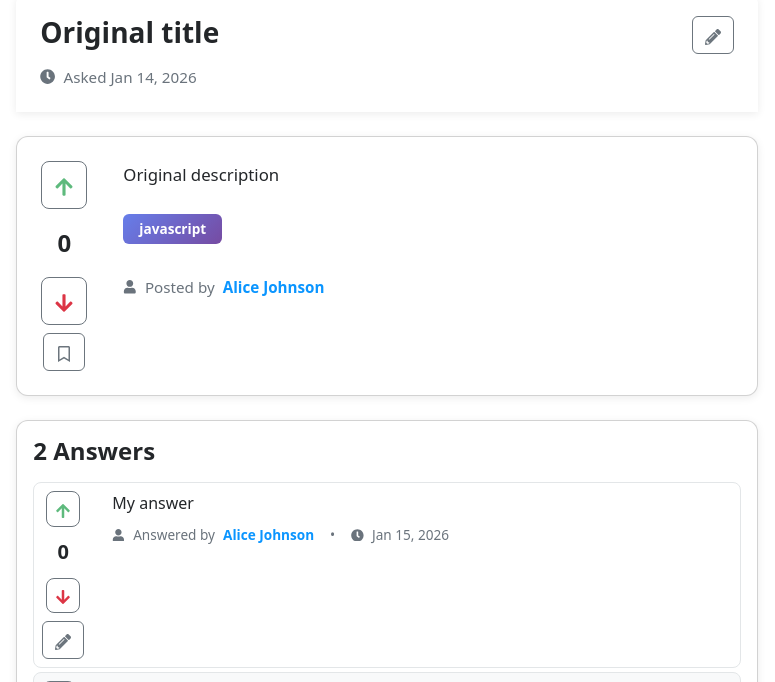
Test: Edit Posts Integration Tests (Redux + rendered QuestionDetail) › blocks submission and issues no request when the question title is emptied
The image size is (775, 682).
Expected: the heading "Original title" is shown, [40,16,219,50]
Click the button named "edit" in the row of "Original title": (713, 35) [692,16,734,54]
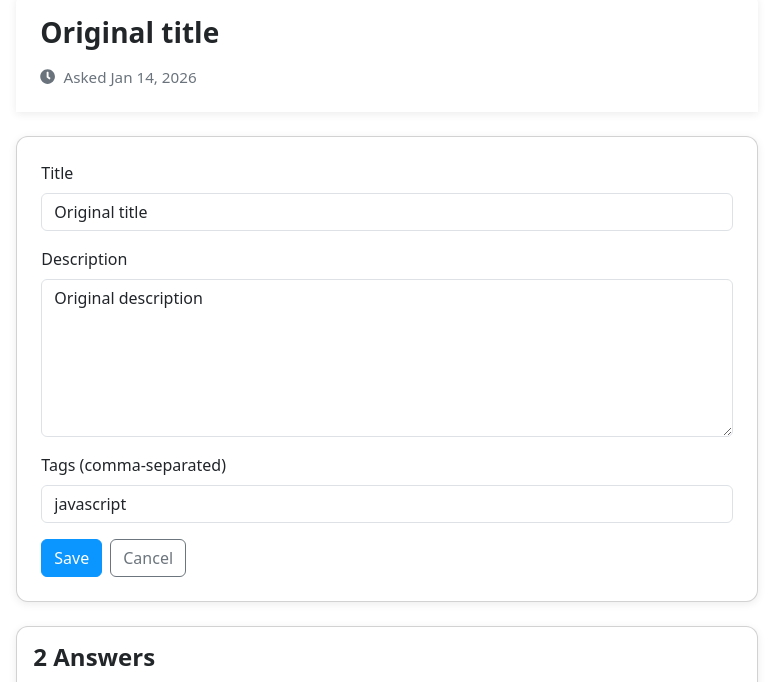
Clear the field labelled "Title": (387, 212) [41,193,733,231]
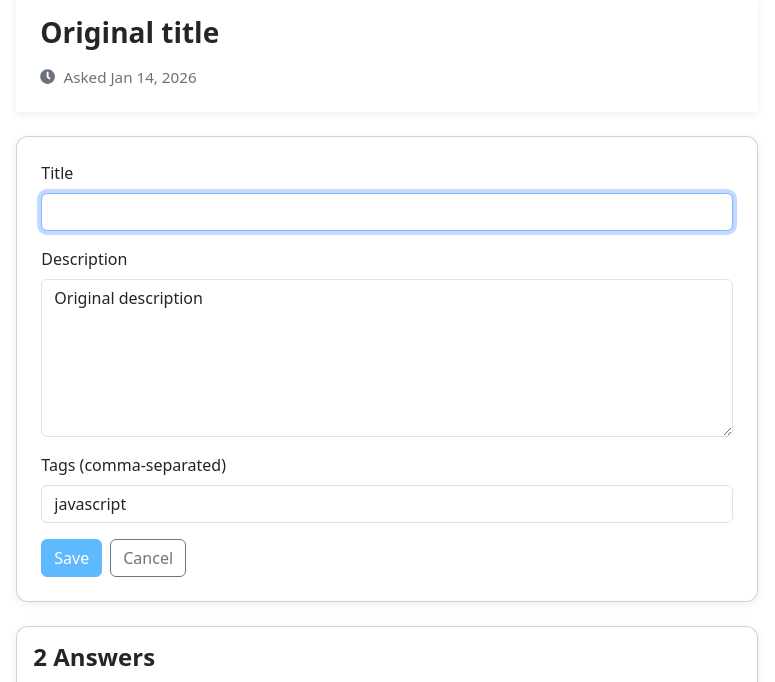
Expected: the button "Save" is disabled, [41,539,102,577]
